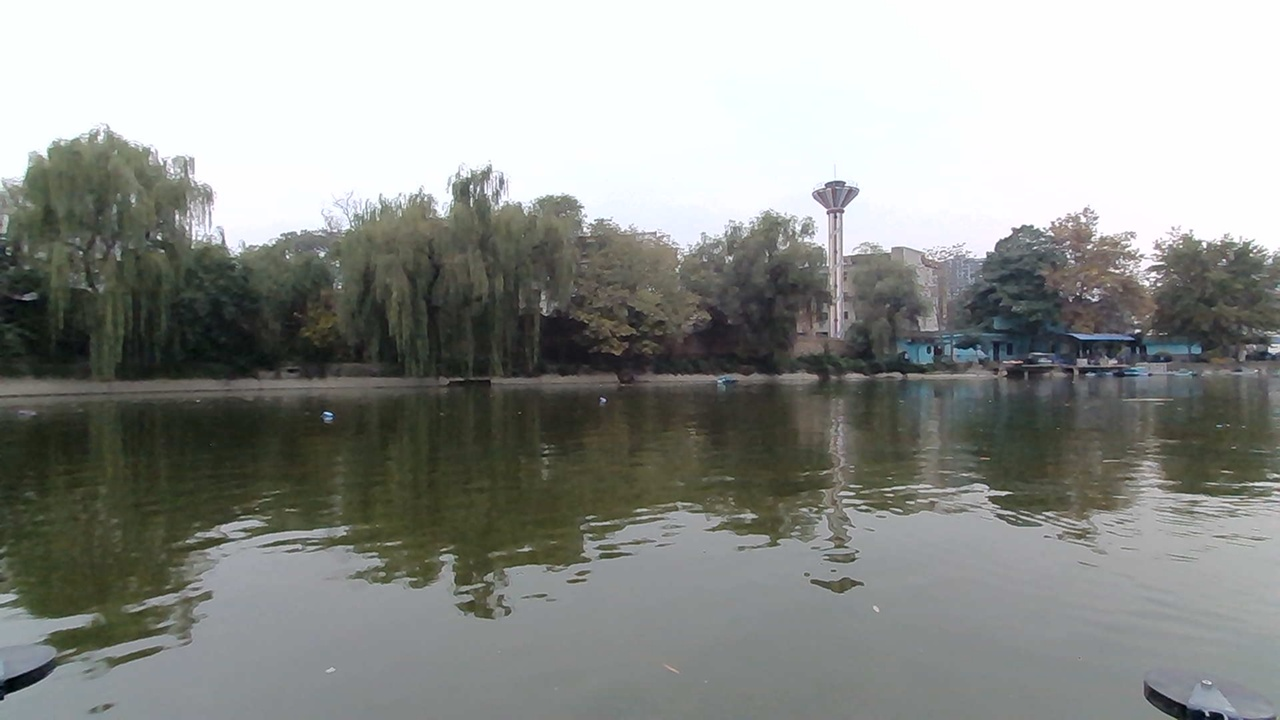bottle: (311, 407, 342, 425)
